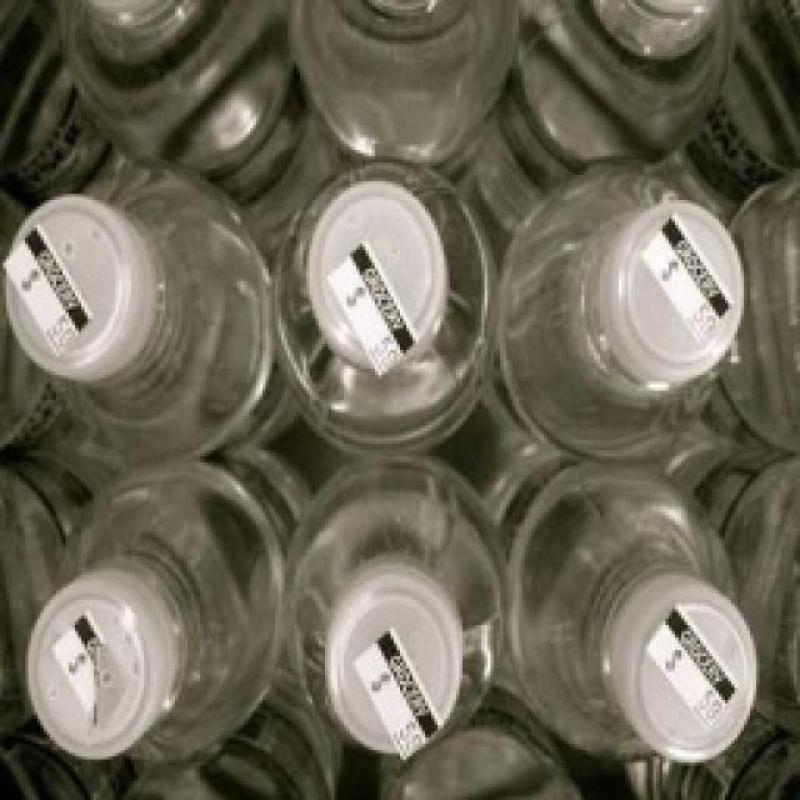botella: (0, 167, 300, 477), (480, 442, 760, 773), (22, 450, 303, 769), (495, 150, 749, 469), (262, 153, 497, 457), (283, 450, 505, 760), (56, 0, 329, 235), (289, 0, 526, 190), (511, 0, 720, 194), (677, 423, 800, 752), (0, 450, 94, 722), (734, 152, 800, 453)
